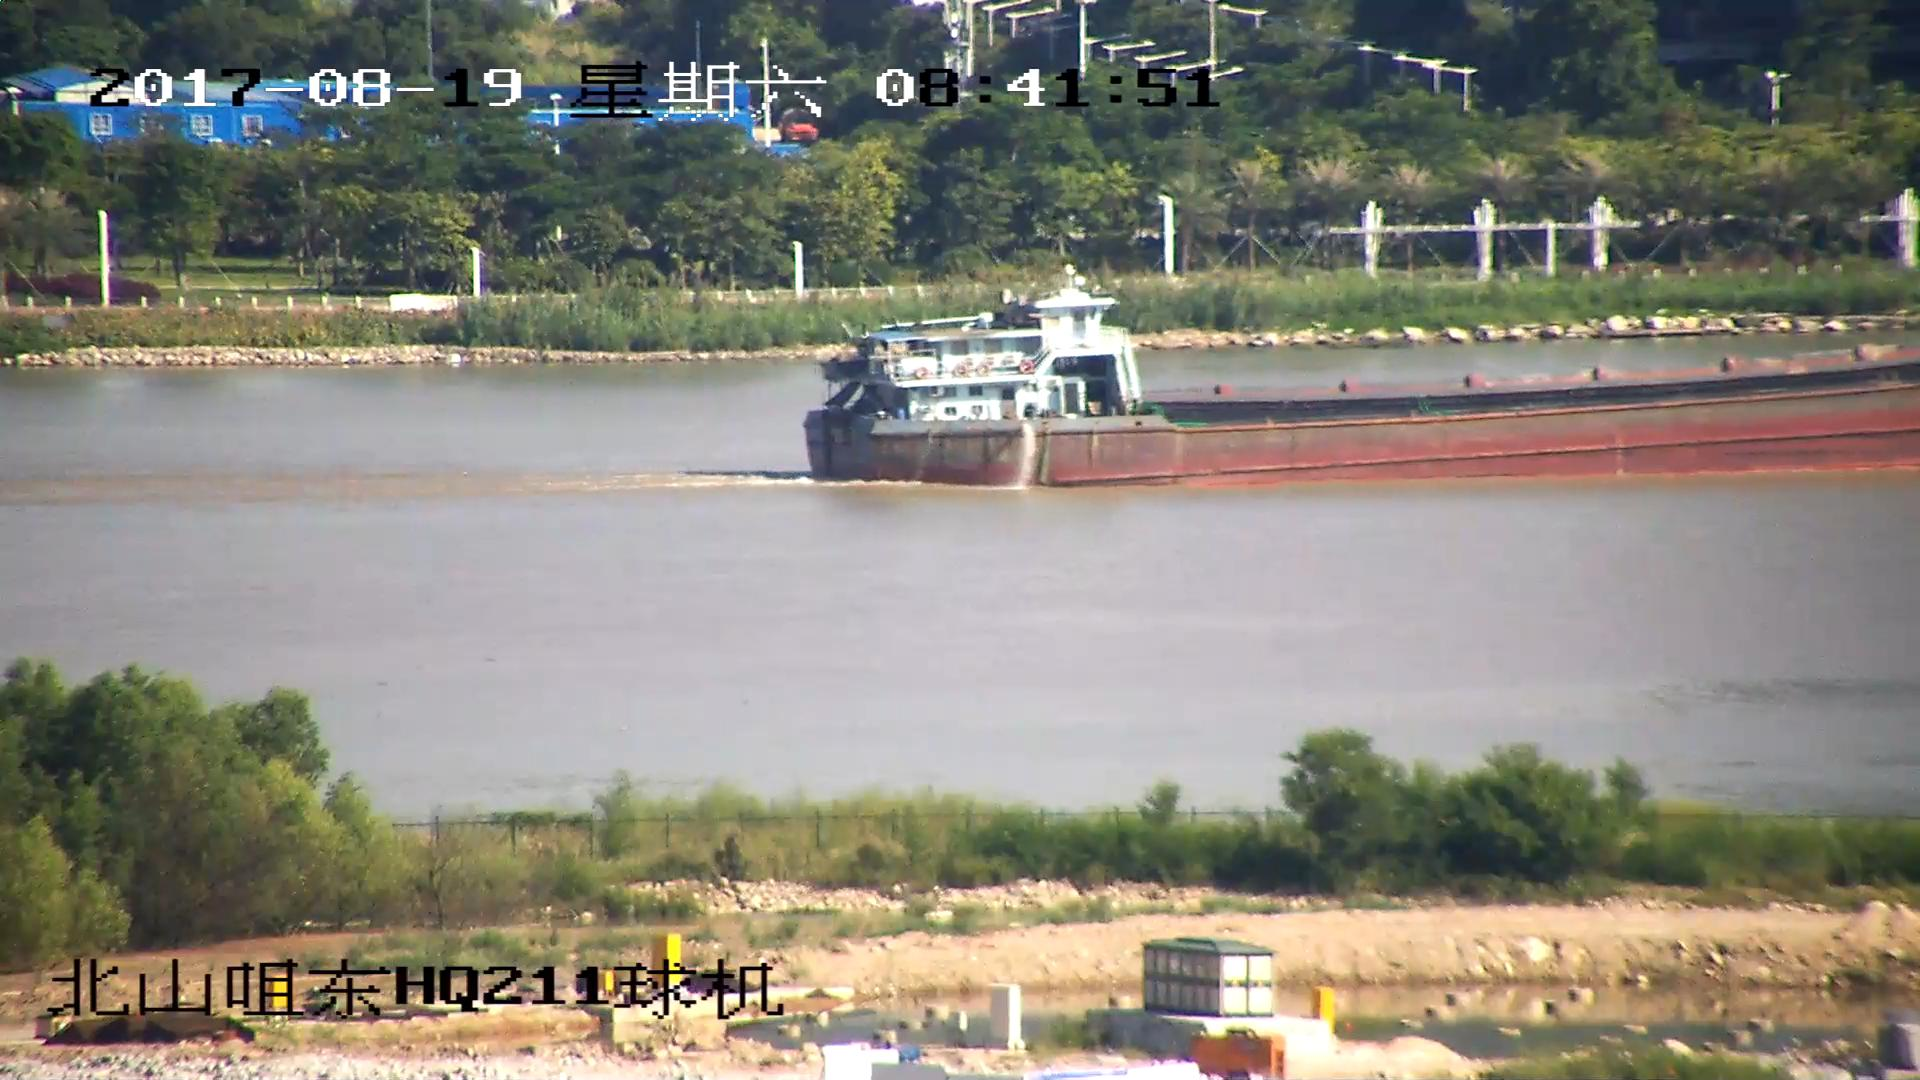bulk cargo carrier: (797, 271, 1920, 492)
